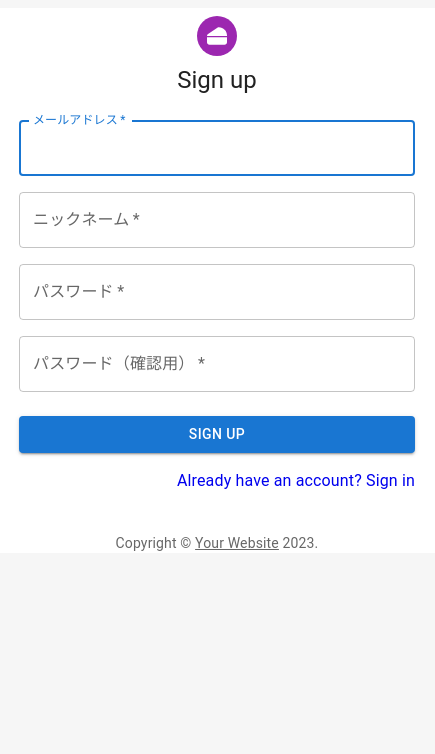
Test: サインアップ画面 › メールアドレス入力 › 必須チェック
The image size is (435, 754).
Click the button "Sign Up": x=217, y=434 [19,416,415,452]
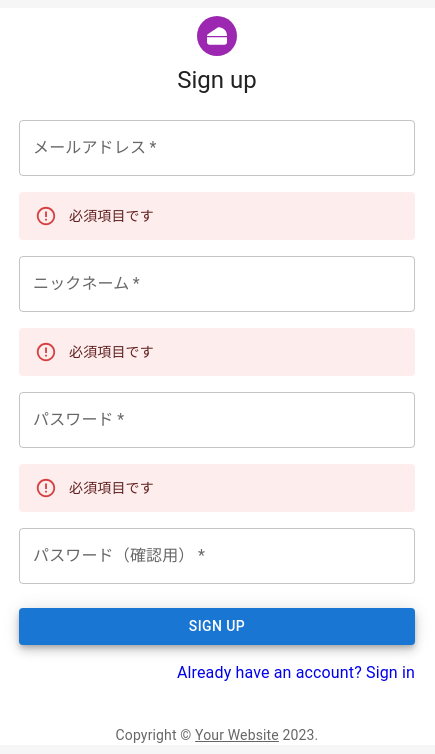
Expected: the 1st text "必須項目です" is shown, [69,208,154,224]
